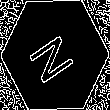N_NE: (27, 25, 83, 85)
